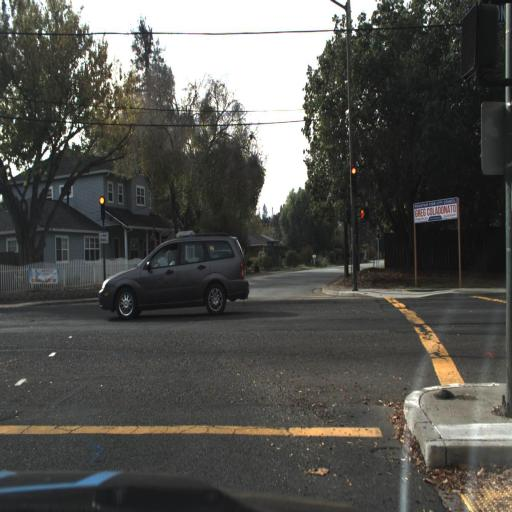car: (94, 233, 249, 322)
trafficLight: (99, 195, 106, 220)
trafficLight-Red: (350, 166, 357, 195)
